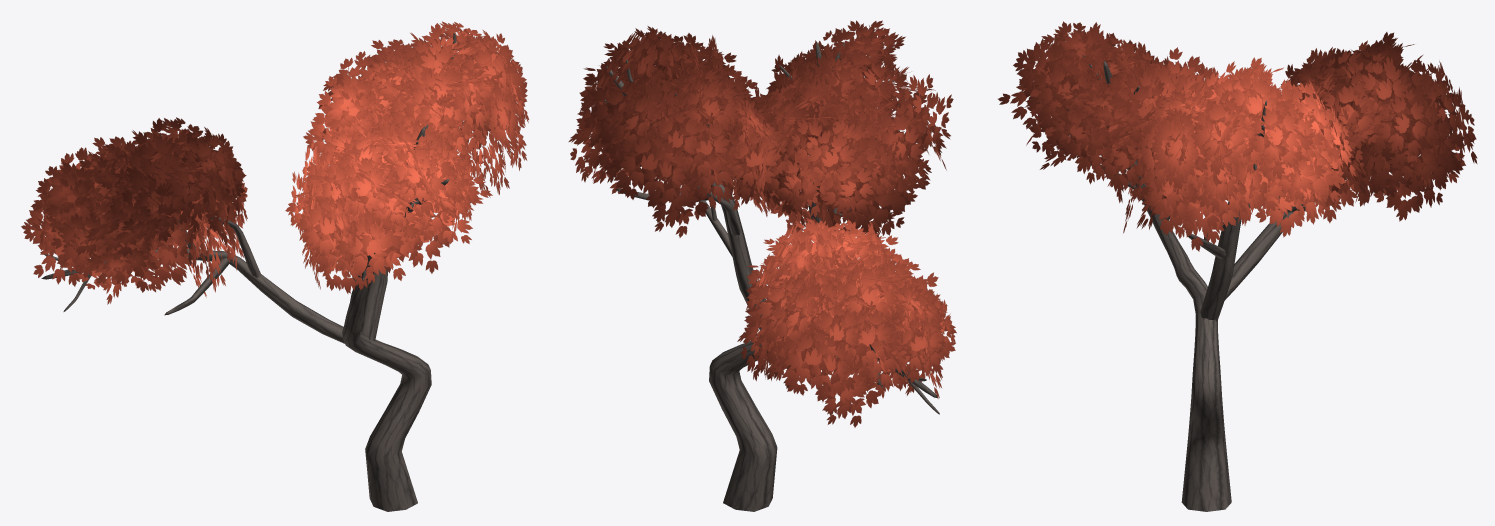
The model's file is MapleTree_2.gltf.
3 renders of one model, left to right at view 1: azimuth 30°, elevation 25°; view 2: azimuth 150°, elevation 25°; view 3: azimuth 270°, elevation 25°, orthographic. The views are drawn at different scales.
Parts seen in each view (by area): view 1: MapleTree_2; view 2: MapleTree_2; view 3: MapleTree_2.
Boxes of the visible parts, x1=… form: MapleTree_2: x1=21, y1=21, x2=529, y2=511; MapleTree_2: x1=568, y1=20, x2=956, y2=511; MapleTree_2: x1=998, y1=21, x2=1477, y2=511.
Bounding box in the file's own units: 6.7 × 6.71 × 6.24.
2 materials, 2 textured.
